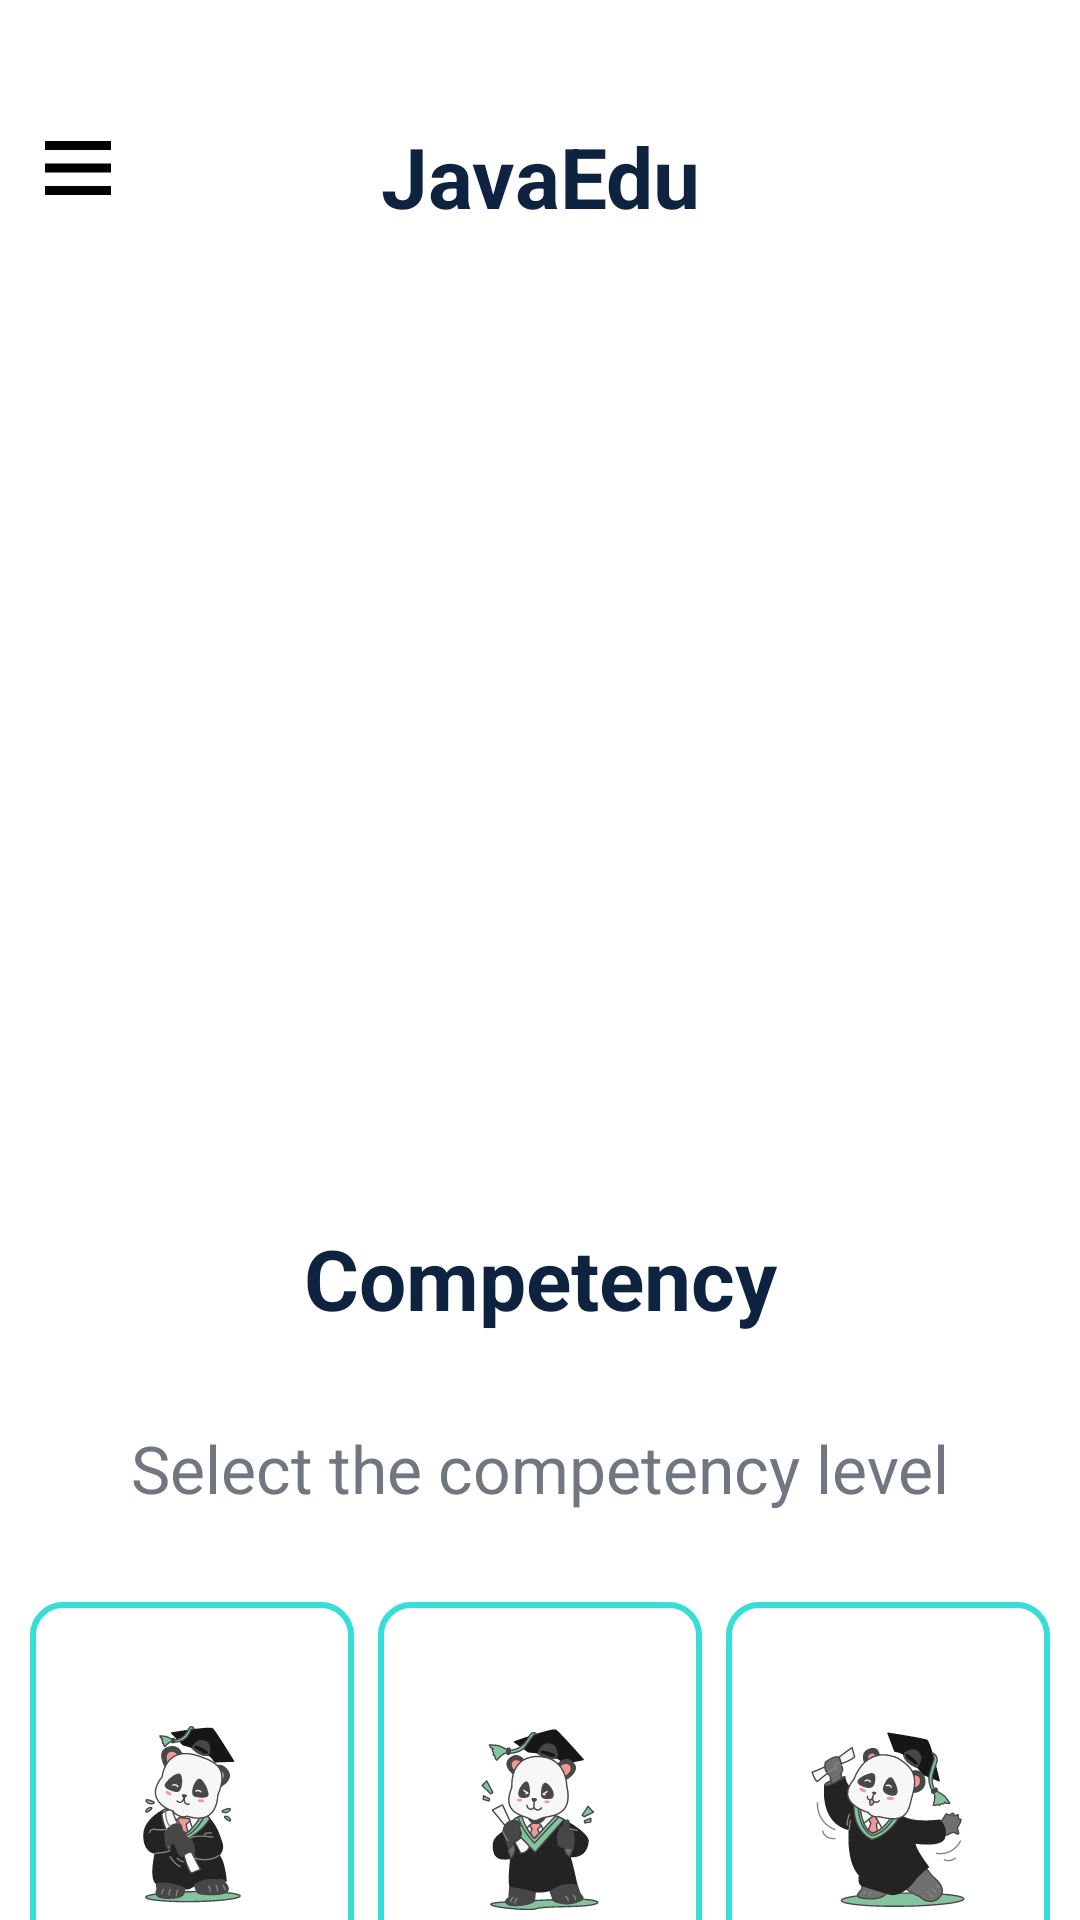

Screen size 1080×1920. Icon name, then its box in pixels as (x1, y1, x2, y2):
menu: (45, 141, 111, 195)
